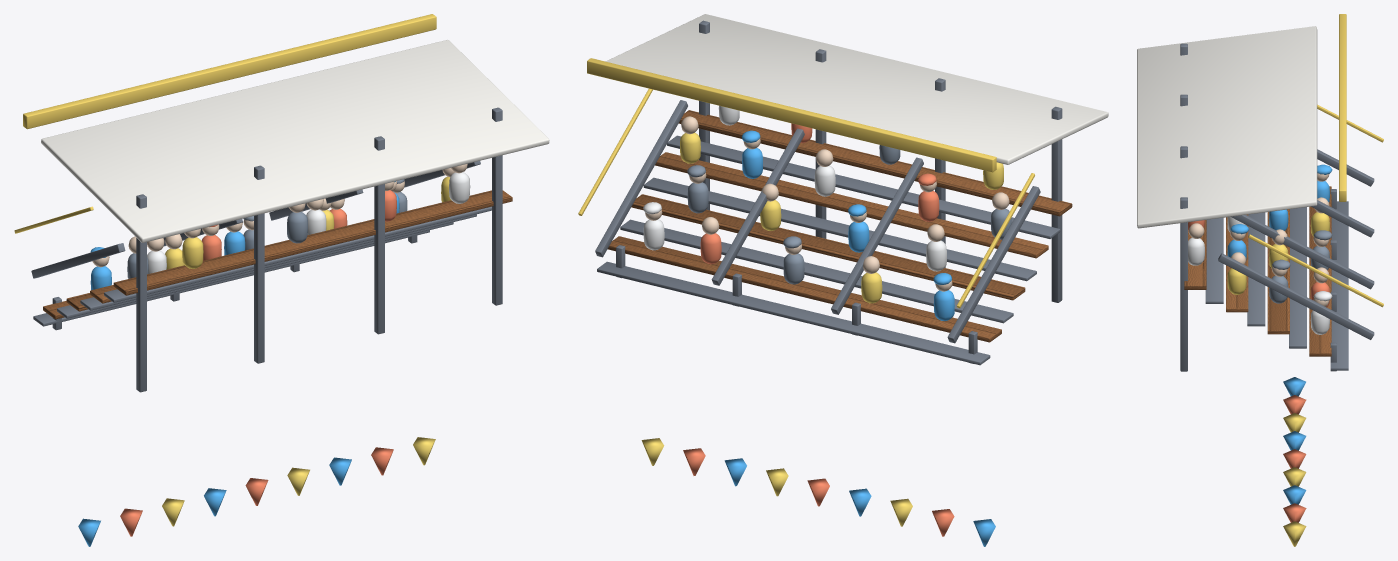
File: spectator_bleacher.glb
3 views of the same model, side by side, from view 1: azimuth 30°, elevation 25°; view 2: azimuth 150°, elevation 25°; view 3: azimuth 270°, elevation 25° (orthographic). The views are drawn at different scales.
Visible parts, largest first — view 1: CanopyRoof, CanopyFascia, SeatBench_3, FootDeck_3, RiserBack_-3.4, RiserBack_3.4, RiserBack_-1.1, RiserBack_1.1, FootDeck_2, FootDeck_1, FootDeck_0, RiserDiag_-3.4; view 2: CanopyRoof, CanopyFascia, SeatBench_0, FootDeck_0, SeatBench_2, SeatBench_1, SeatBench_3, FootDeck_2, FootDeck_3, FootDeck_1, RiserDiag_3.4, RiserDiag_-3.4 (+5 smaller); view 3: CanopyRoof, FootDeck_0, FootDeck_1, FootDeck_2, RiserDiag_3.4, FootDeck_3, CanopyFascia, RiserDiag_1.1, RiserBack_3.4, SeatBench_0, SeatBench_1, SeatBench_2 (+10 smaller).
Boxes of the visible parts, left/top/right/bottom form: CanopyRoof: left=41, top=40, right=549, bottom=242; CanopyFascia: left=23, top=14, right=436, bottom=129; SeatBench_3: left=113, top=190, right=512, bottom=295; FootDeck_3: left=104, top=206, right=491, bottom=302; RiserBack_-3.4: left=136, top=194, right=146, bottom=392; RiserBack_3.4: left=492, top=107, right=502, bottom=305; RiserBack_-1.1: left=254, top=165, right=264, bottom=363; RiserBack_1.1: left=374, top=136, right=384, bottom=334; FootDeck_2: left=80, top=214, right=476, bottom=310; FootDeck_1: left=57, top=222, right=453, bottom=318; FootDeck_0: left=33, top=230, right=429, bottom=326; RiserDiag_-3.4: left=31, top=243, right=125, bottom=278; CanopyRoof: left=605, top=14, right=1108, bottom=164; CanopyFascia: left=587, top=58, right=996, bottom=172; SeatBench_0: left=608, top=236, right=1001, bottom=342; FootDeck_0: left=597, top=261, right=990, bottom=365; SeatBench_2: left=655, top=152, right=1048, bottom=258; SeatBench_1: left=631, top=194, right=1025, bottom=300; SeatBench_3: left=678, top=110, right=1072, bottom=216; FootDeck_2: left=643, top=177, right=1036, bottom=281; FootDeck_3: left=667, top=135, right=1060, bottom=238; FootDeck_1: left=620, top=219, right=1013, bottom=323; RiserDiag_3.4: left=595, top=100, right=687, bottom=257; RiserDiag_-3.4: left=947, top=186, right=1040, bottom=343; CanopyRoof: left=1137, top=26, right=1317, bottom=228; FootDeck_0: left=1330, top=201, right=1348, bottom=370; FootDeck_1: left=1289, top=207, right=1306, bottom=348; FootDeck_2: left=1247, top=212, right=1265, bottom=326; RiserDiag_3.4: left=1218, top=253, right=1374, bottom=339; FootDeck_3: left=1205, top=217, right=1223, bottom=303; CanopyFascia: left=1339, top=14, right=1346, bottom=201; RiserDiag_1.1: left=1231, top=215, right=1374, bottom=289; RiserBack_3.4: left=1180, top=197, right=1187, bottom=371; SeatBench_0: left=1309, top=186, right=1331, bottom=356; SeatBench_1: left=1267, top=209, right=1289, bottom=334; SeatBench_2: left=1226, top=214, right=1248, bottom=312.
Size of the model in its own units: 7.84 by 7.69 by 4.62.
10 materials, 1 textured.
